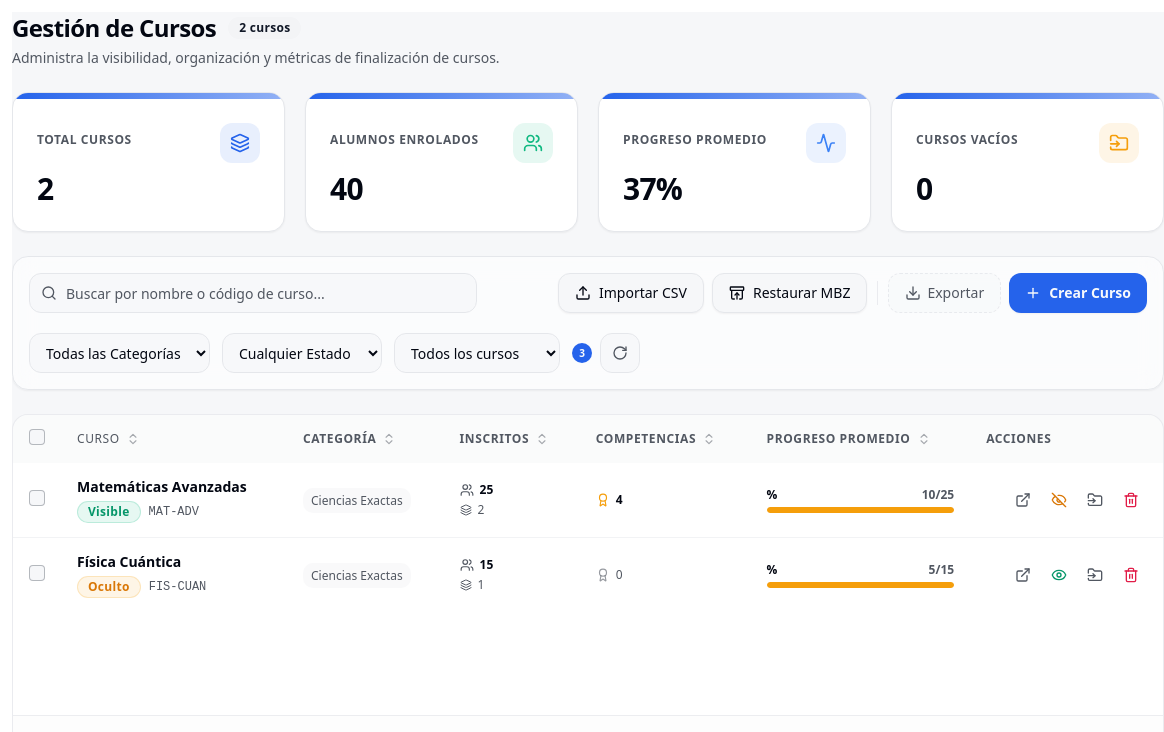
Scenario: CoursesView behavior tests › shows bulk action toolbar when rows are selected
The image size is (1164, 732).
Expected: the link "Matemáticas Avanzadas" is shown, [77, 477, 271, 497]
Note: Click on the first row checkbox (index 1, as index 0 is header select-all)
Click the checkbox named "Seleccionar fila 101" at (37, 498), box [29, 490, 45, 506]
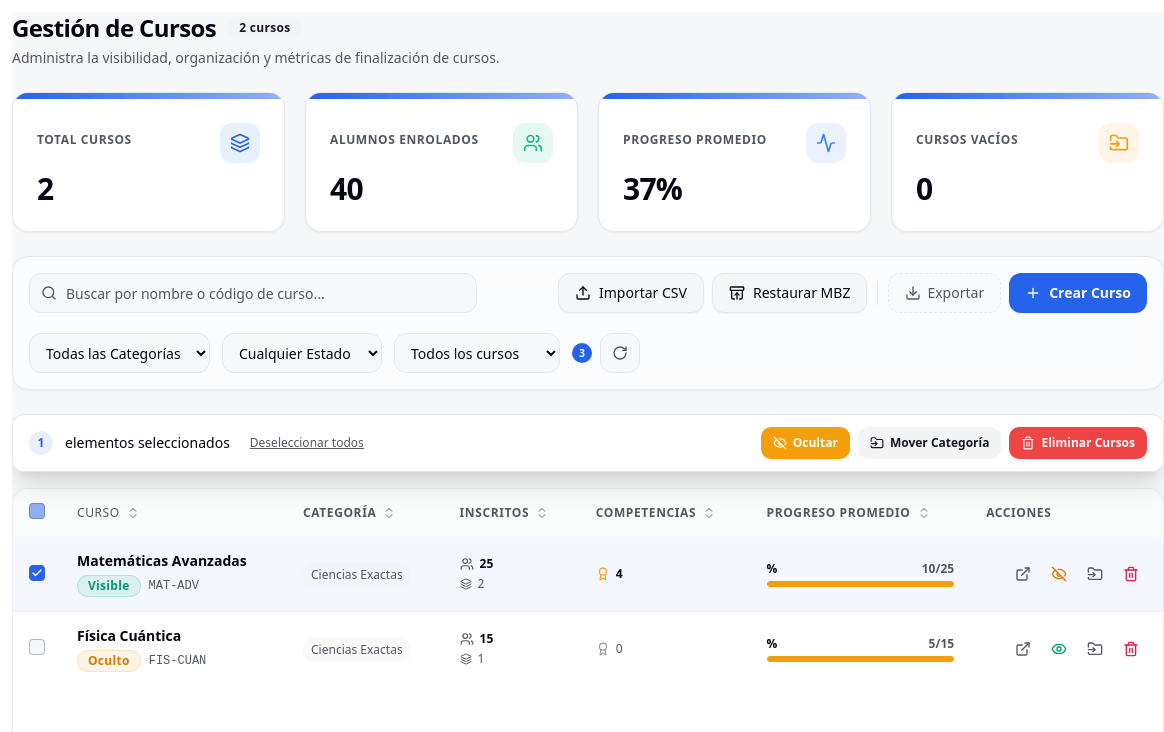
Now the text "elementos seleccionados" is shown, box [65, 433, 230, 453]
Now the text "Ocultar" is shown, box [793, 435, 838, 451]
